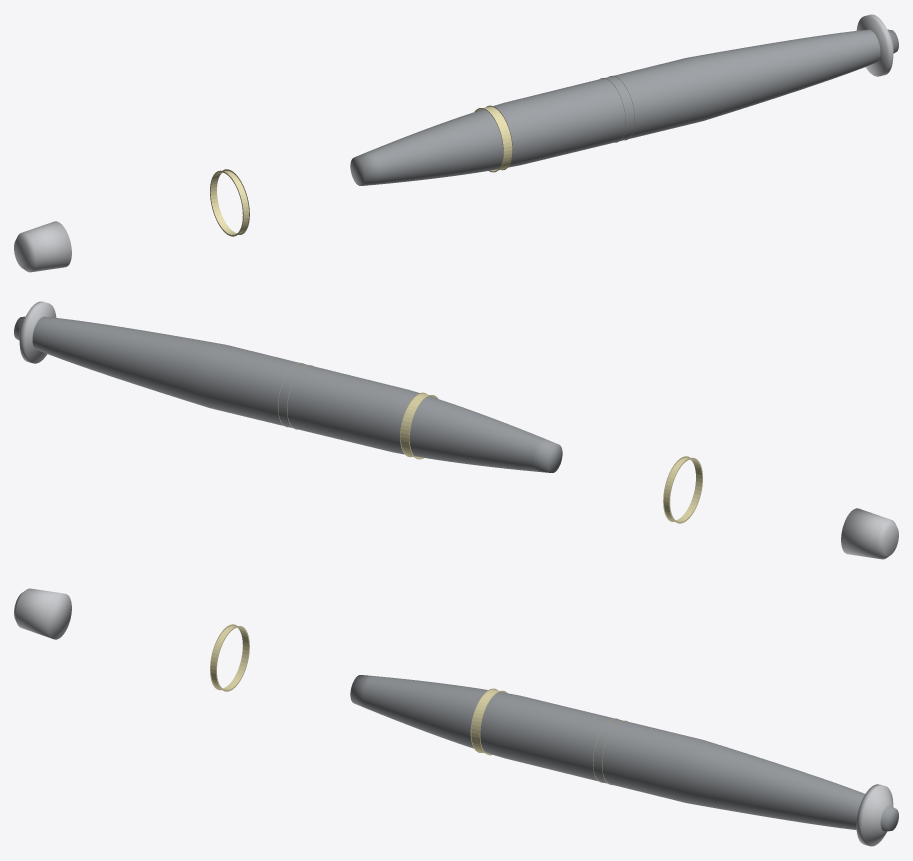
Rendered from RU_TORP_Shkval_LOD0.fbx.
3 views of the same model, one above another, from view 1: azimuth 30°, elevation 25°; view 2: azimuth 150°, elevation 25°; view 3: azimuth 330°, elevation 25° (orthographic).
Parts seen in each view (by area): view 1: WPN_RU_TORP_Shkval_LOD0_Body, WPN_RU_TORP_Shkval_LOD0_Propulsor, WPN_RU_TORP_Shkval_LOD0_Marking, WPN_RU_TORP_Shkval_LOD0_Nose; view 2: WPN_RU_TORP_Shkval_LOD0_Body, WPN_RU_TORP_Shkval_LOD0_Propulsor, WPN_RU_TORP_Shkval_LOD0_Marking, WPN_RU_TORP_Shkval_LOD0_Nose; view 3: WPN_RU_TORP_Shkval_LOD0_Body, WPN_RU_TORP_Shkval_LOD0_Propulsor, WPN_RU_TORP_Shkval_LOD0_Marking, WPN_RU_TORP_Shkval_LOD0_Nose.
Boxes of the visible parts, left/top/right/bottom form: WPN_RU_TORP_Shkval_LOD0_Body: left=350, top=29, right=898, bottom=185; WPN_RU_TORP_Shkval_LOD0_Propulsor: left=14, top=221, right=71, bottom=272; WPN_RU_TORP_Shkval_LOD0_Marking: left=210, top=75, right=634, bottom=236; WPN_RU_TORP_Shkval_LOD0_Nose: left=856, top=14, right=893, bottom=76; WPN_RU_TORP_Shkval_LOD0_Body: left=14, top=316, right=562, bottom=472; WPN_RU_TORP_Shkval_LOD0_Propulsor: left=841, top=508, right=898, bottom=559; WPN_RU_TORP_Shkval_LOD0_Marking: left=278, top=362, right=702, bottom=523; WPN_RU_TORP_Shkval_LOD0_Nose: left=19, top=301, right=56, bottom=363; WPN_RU_TORP_Shkval_LOD0_Body: left=350, top=675, right=898, bottom=831; WPN_RU_TORP_Shkval_LOD0_Propulsor: left=14, top=588, right=71, bottom=639; WPN_RU_TORP_Shkval_LOD0_Marking: left=210, top=624, right=627, bottom=785; WPN_RU_TORP_Shkval_LOD0_Nose: left=856, top=784, right=893, bottom=846.
Size of the model in its own units: 8.19 by 0.549 by 0.549.
